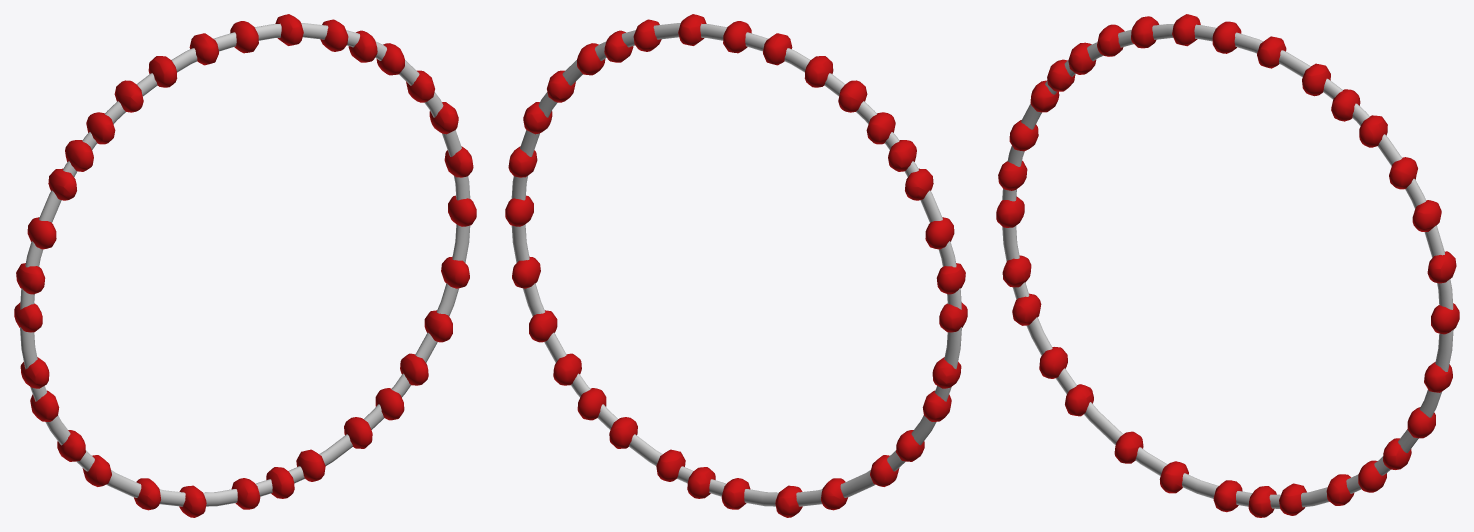
3 renders of one model, left to right at view 1: azimuth 30°, elevation 25°; view 2: azimuth 150°, elevation 25°; view 3: azimuth 330°, elevation 25°, orthographic.
Parts seen in each view (by area): view 1: Electron_Mball, Ring_Torus; view 2: Electron_Mball, Ring_Torus; view 3: Electron_Mball, Ring_Torus.
Boxes of the visible parts, x1=… form: Electron_Mball: x1=14, y1=14, x2=476, y2=517; Ring_Torus: x1=20, y1=23, x2=470, y2=506; Electron_Mball: x1=505, y1=14, x2=967, y2=517; Ring_Torus: x1=511, y1=23, x2=961, y2=506; Electron_Mball: x1=996, y1=14, x2=1459, y2=517; Ring_Torus: x1=1002, y1=24, x2=1453, y2=508.
Size of the model in its own units: 2.91 by 2.96 by 0.2139.
